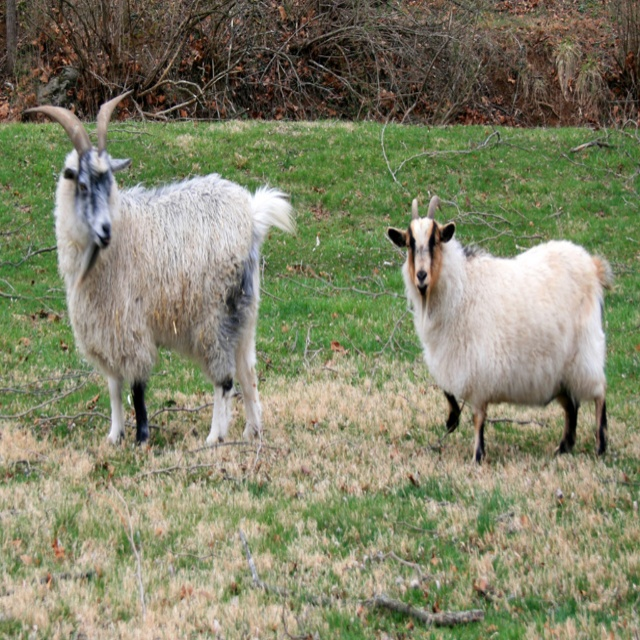Goat: (24, 89, 299, 445), (382, 196, 613, 464)
